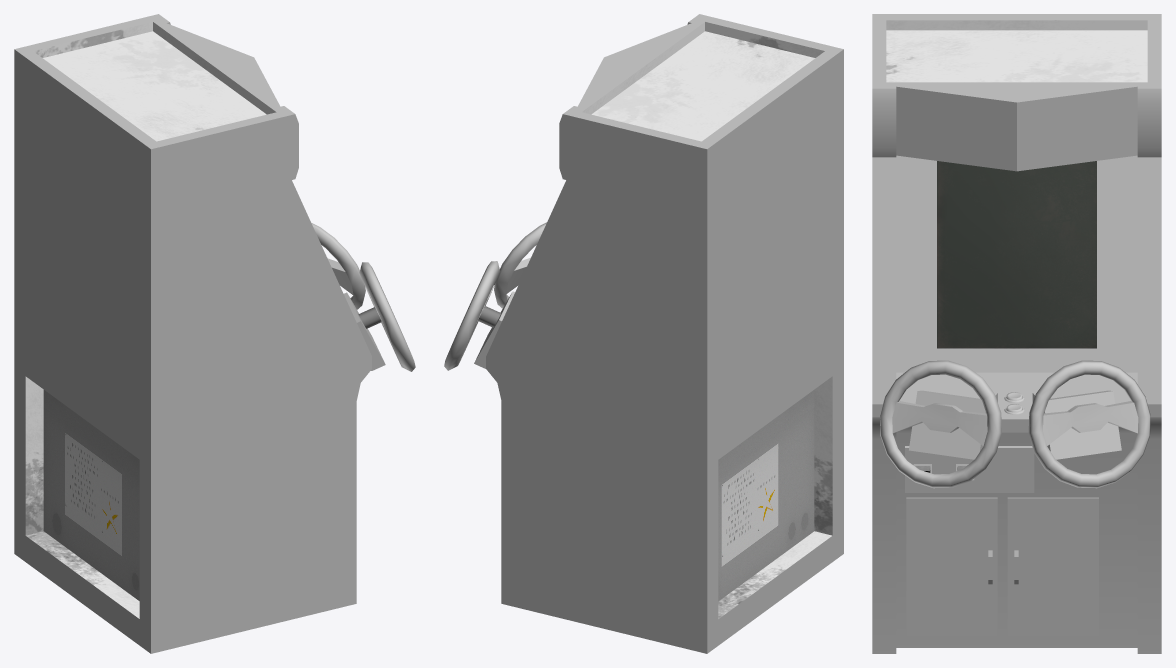
The model's file is Arcade RAcer.fbx.
3 renders of one model, left to right at view 1: azimuth 30°, elevation 25°; view 2: azimuth 150°, elevation 25°; view 3: azimuth 270°, elevation 25°, orthographic. The views are drawn at different scales.
Visible parts, largest first — view 1: Cube.017; view 2: Cube.017; view 3: Cube.017.
Boxes of the visible parts, x1=… form: Cube.017: x1=14, y1=14, x2=415, y2=653; Cube.017: x1=444, y1=14, x2=843, y2=653; Cube.017: x1=872, y1=14, x2=1161, y2=653.
Bounding box in the file's own units: 94.79 × 154 × 75.8.
